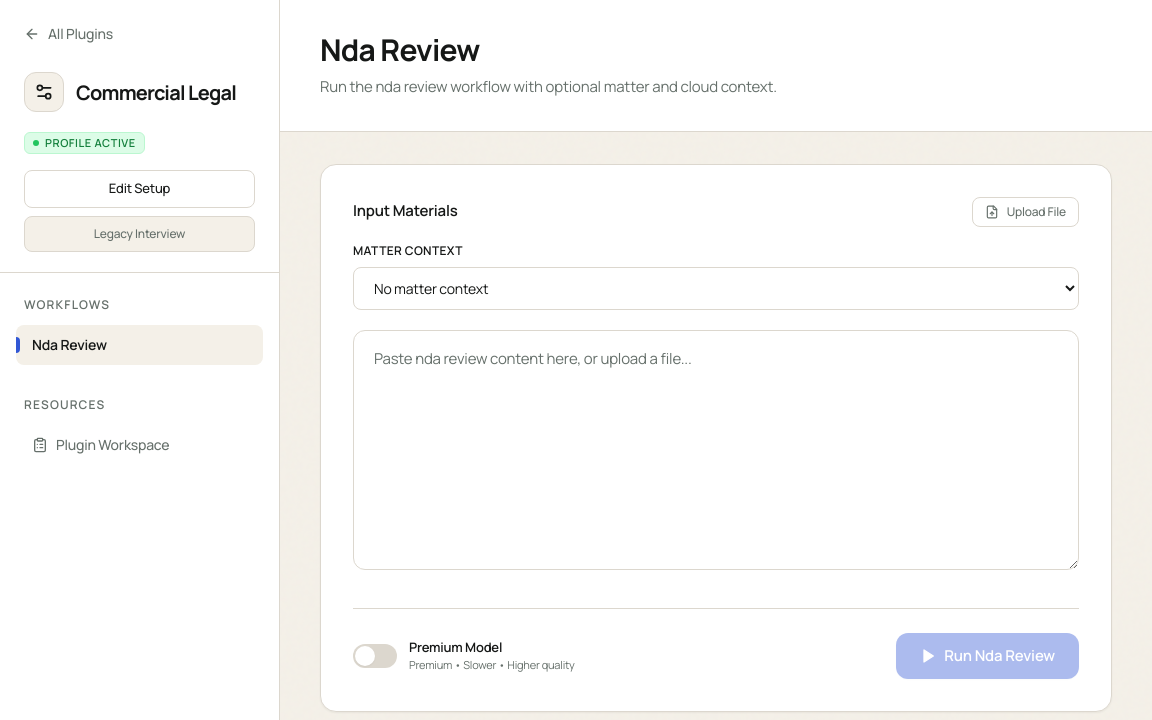
Test: PluginPage skill execution › shows a readable failure instead of a blank panel when the run errors
The width and height of the screenshot is (1152, 720).
Type "Mutual NDA." into the text box with placeholder "Paste nda review content here, or upload a file...".
click(716, 450); type("Mutual NDA.")  # box [353,330,1079,570]
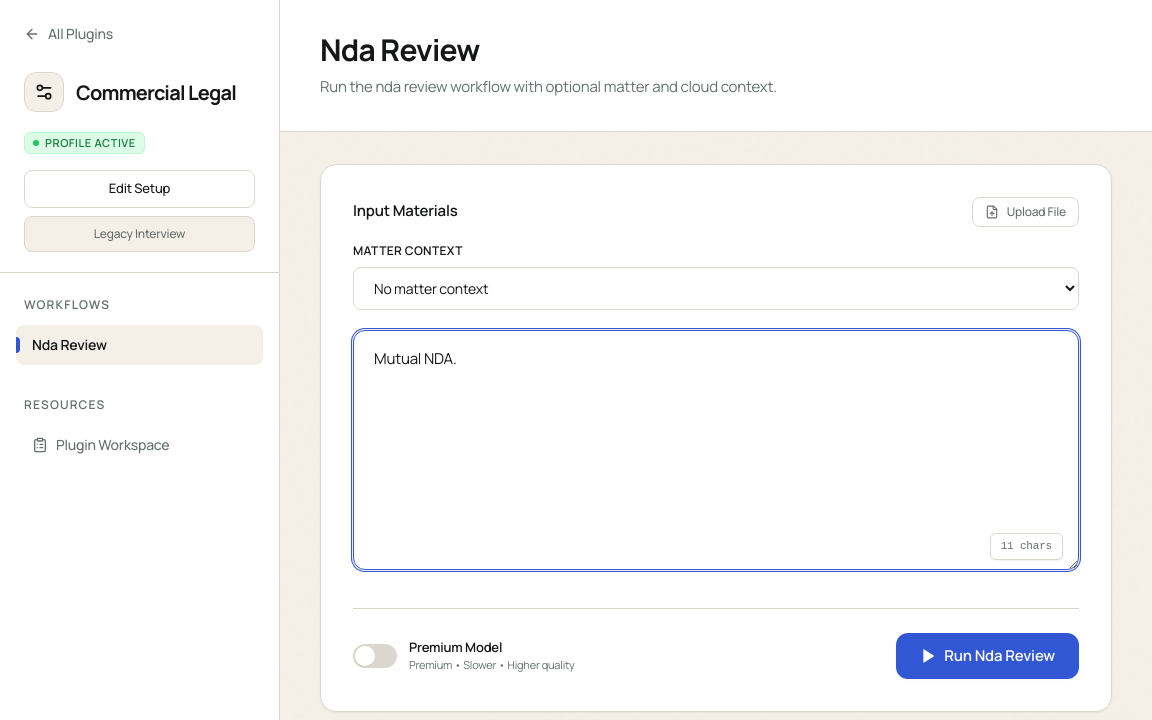
Click the button "Run Nda Review".
click(988, 656)  # box [896,632,1079,679]
(page scrolled)
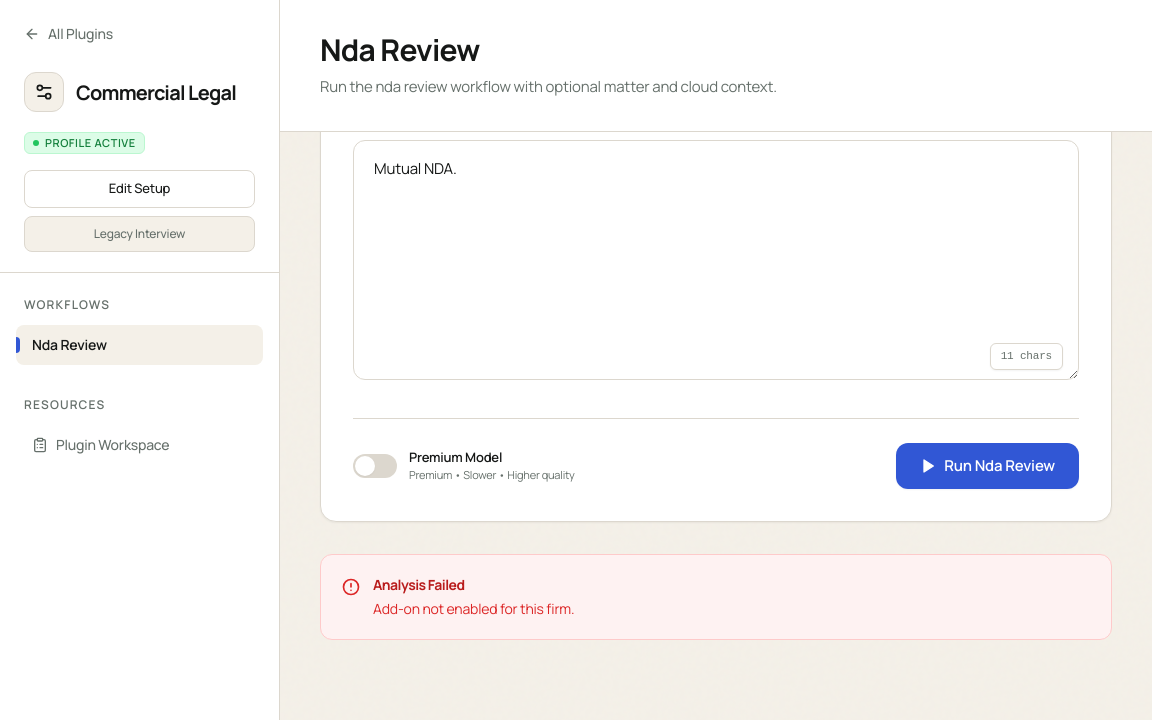
Now the heading "Analysis Failed" is shown, box [373,575,464,594]
Now the text "Add-on not enabled for this firm." is shown, box [373,599,574,619]
